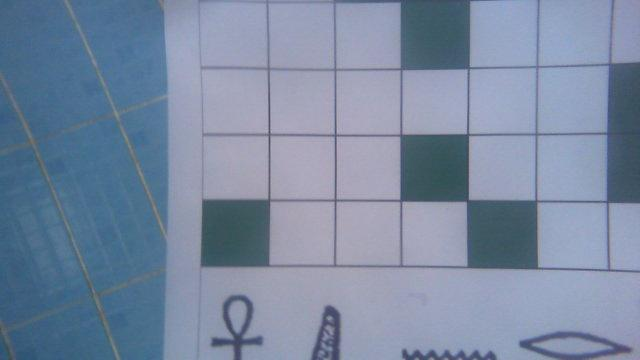Ankh: (204, 293, 270, 360)
Mouth: (514, 331, 640, 360)
Water: (392, 342, 503, 360)
